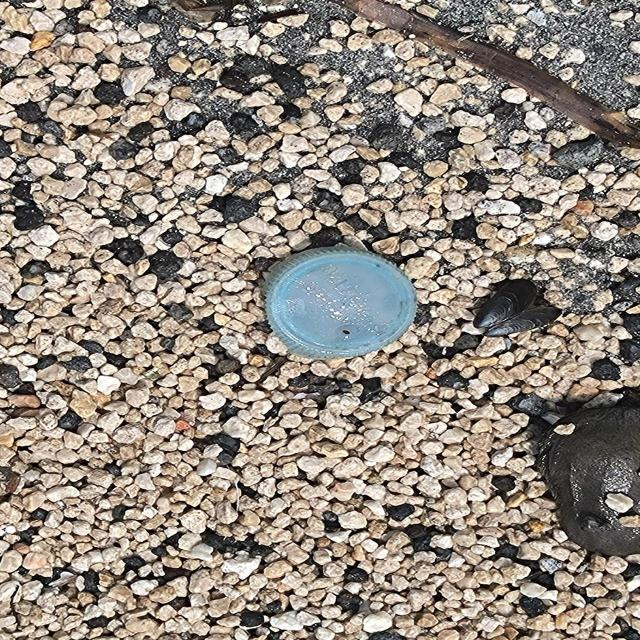plastic_waste: (259, 246, 420, 362)
